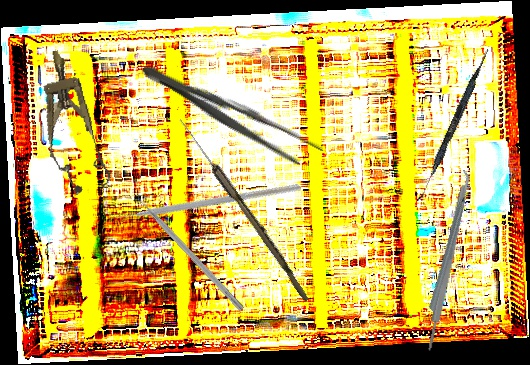Chopper: (100, 99, 303, 296), (381, 168, 516, 313), (130, 183, 251, 312)
Dressing Forceps: (135, 55, 326, 174)
Scalpel Handle: (424, 184, 469, 352)
Spatula Surgical: (416, 46, 491, 205)
Speculum: (27, 44, 116, 199)
Surgical Spoon: (175, 116, 314, 303)
